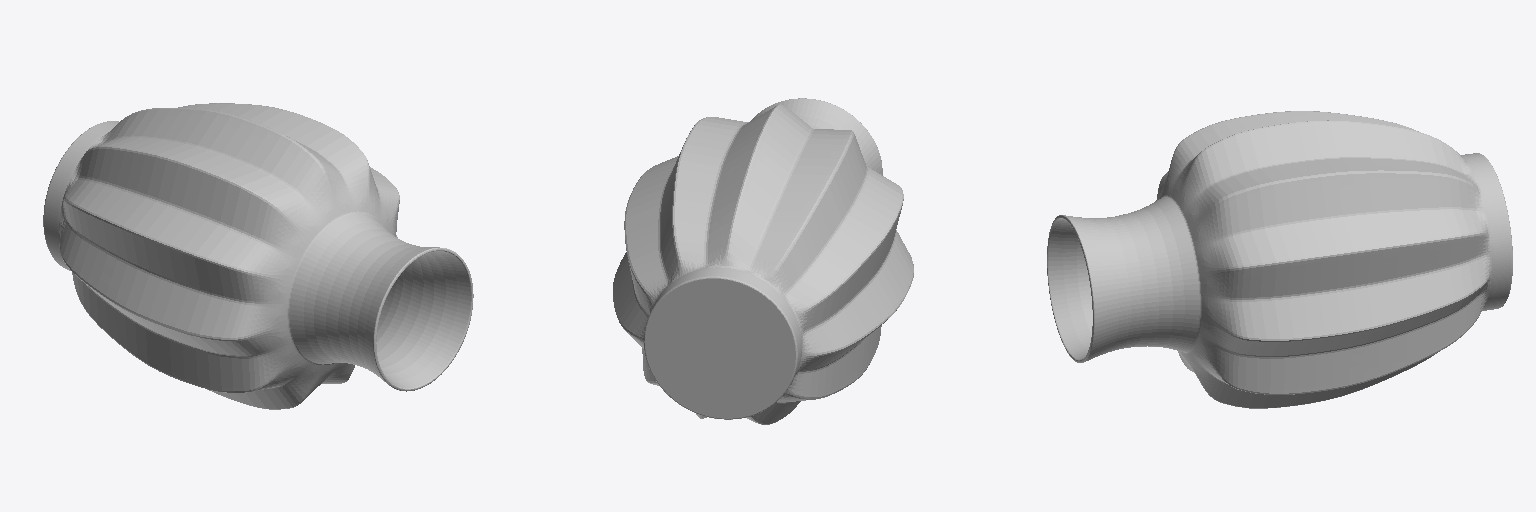
The model's file is vase_xyz_rot.obj.
3 renders of one model, left to right at view 1: azimuth 30°, elevation 25°; view 2: azimuth 150°, elevation 25°; view 3: azimuth 270°, elevation 25°, orthographic.
Visible parts, largest first — view 1: 10327_Vase_v1_max2010.002; view 2: 10327_Vase_v1_max2010.002; view 3: 10327_Vase_v1_max2010.002.
Boxes of the visible parts, <box> form: 10327_Vase_v1_max2010.002: <box>43,103,473,409</box>; 10327_Vase_v1_max2010.002: <box>613,98,913,424</box>; 10327_Vase_v1_max2010.002: <box>1047,111,1512,408</box>.
Bounding box in the file's own units: 0.3203 × 0.3009 × 0.4811.